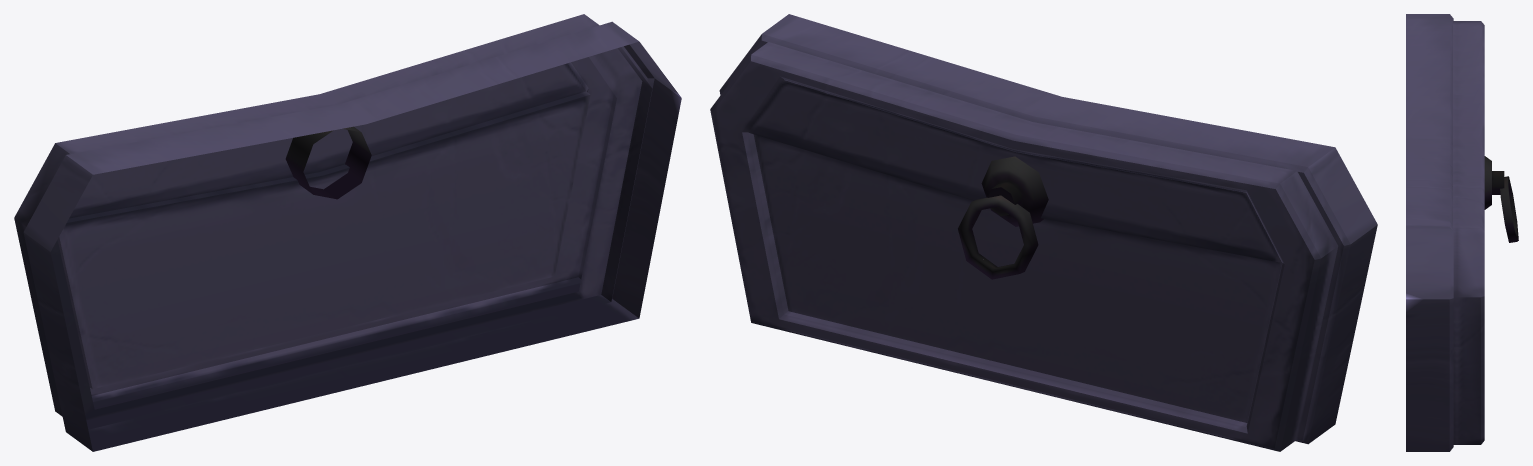
Rendered from MOD_SmallDrawerClose_Block.fbx.
3 views of the same model, side by side, from view 1: azimuth 30°, elevation 25°; view 2: azimuth 150°, elevation 25°; view 3: azimuth 270°, elevation 25° (orthographic). The views are drawn at different scales.
Visible parts, largest first — view 1: MOD_SmallDrawerClose_Block; view 2: MOD_SmallDrawerClose_Block; view 3: MOD_SmallDrawerClose_Block.
Part boxes in pixels (bbox=[...]): MOD_SmallDrawerClose_Block: bbox=[14, 14, 681, 451]; MOD_SmallDrawerClose_Block: bbox=[710, 14, 1377, 451]; MOD_SmallDrawerClose_Block: bbox=[1406, 14, 1518, 451].
Bounding box in the file's own units: 47.69 × 20.01 × 9.16.
1 material, 1 textured.
